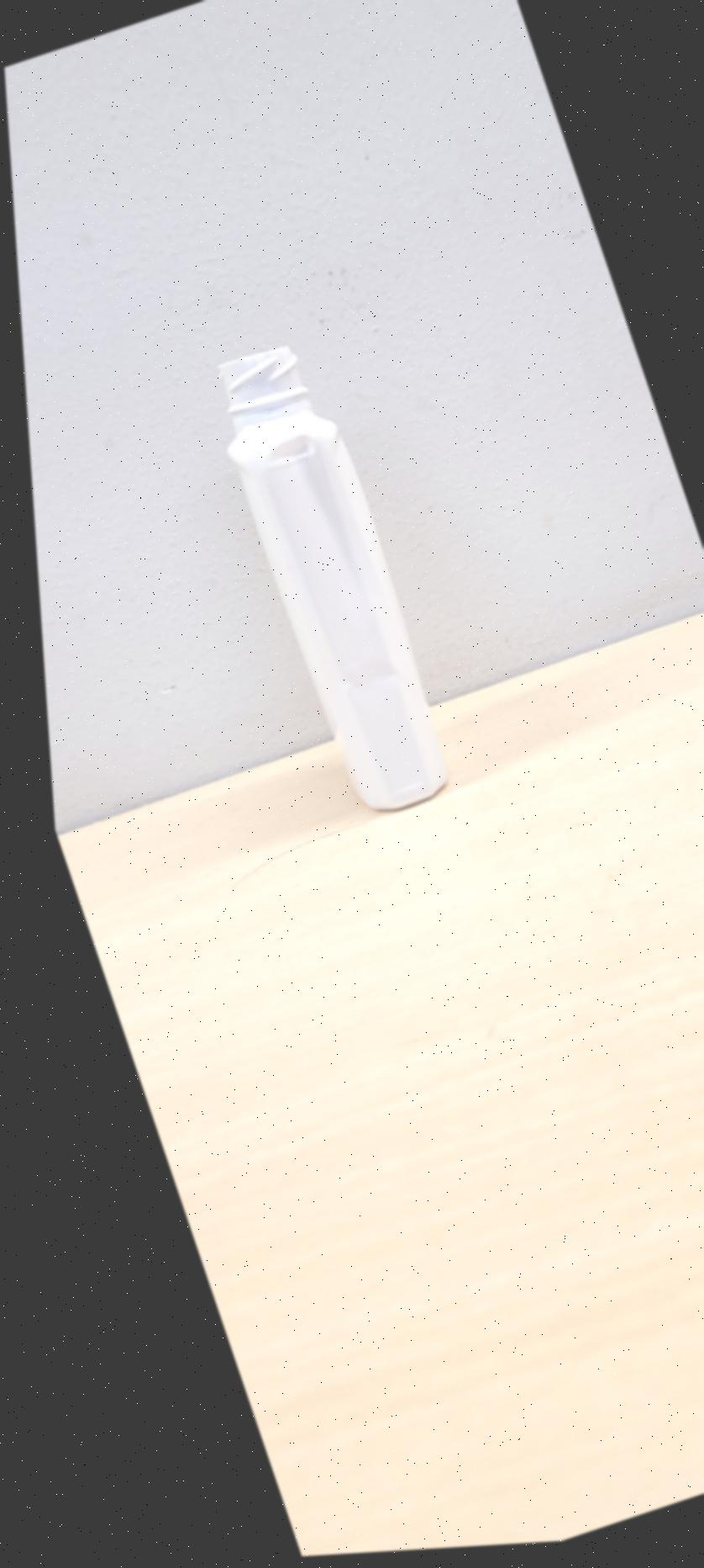bottle: (219, 346, 447, 809)
